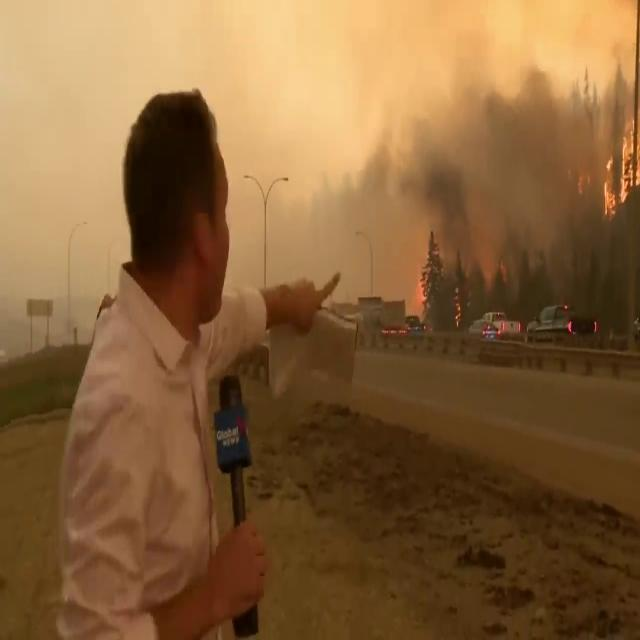Fire: (599, 124, 640, 213)
Smoke: (328, 1, 640, 308)
